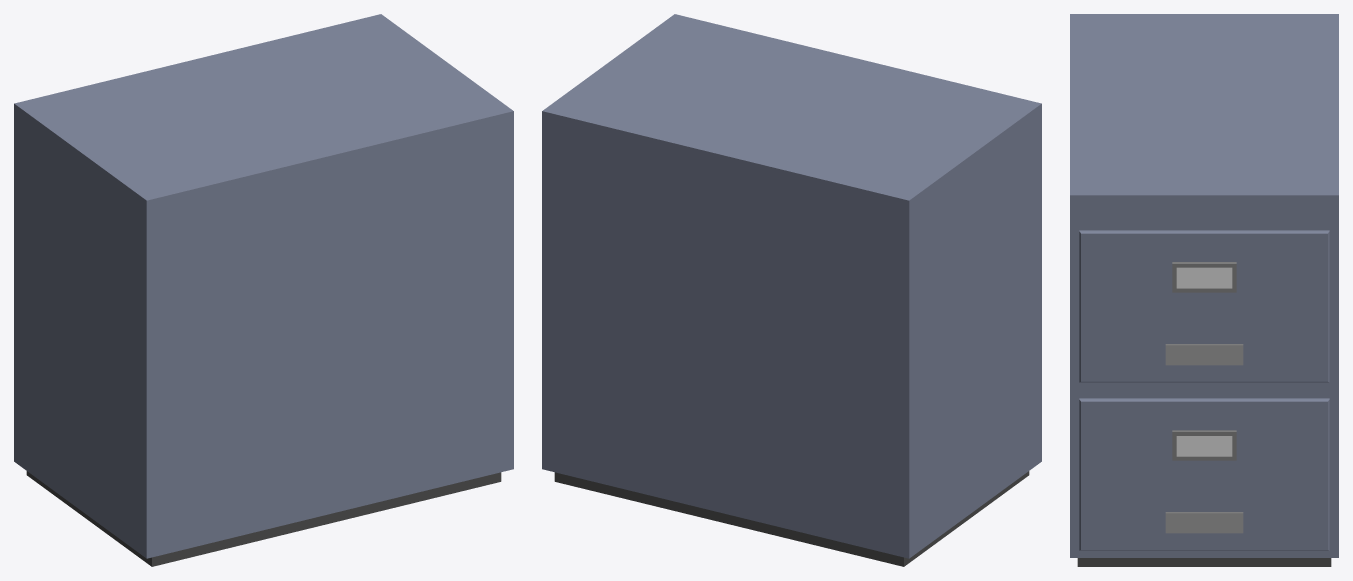
Rendered from FileCabinet.fbx.
3 views of the same model, side by side, from view 1: azimuth 30°, elevation 25°; view 2: azimuth 150°, elevation 25°; view 3: azimuth 270°, elevation 25° (orthographic).
Visible parts, largest first — view 1: FileCabinet; view 2: FileCabinet; view 3: FileCabinet.
Part boxes in pixels (x1,y1,x2,y2): FileCabinet: (14, 14, 513, 566); FileCabinet: (542, 14, 1041, 566); FileCabinet: (1070, 14, 1338, 566).
Size of the model in its own units: 252 by 237 by 153.
